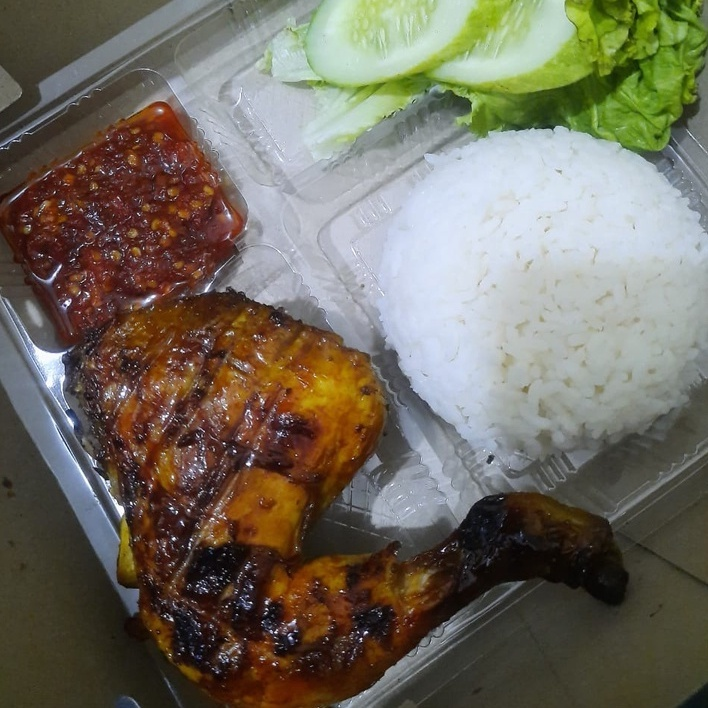ayam_goreng: (33, 295, 618, 707)
